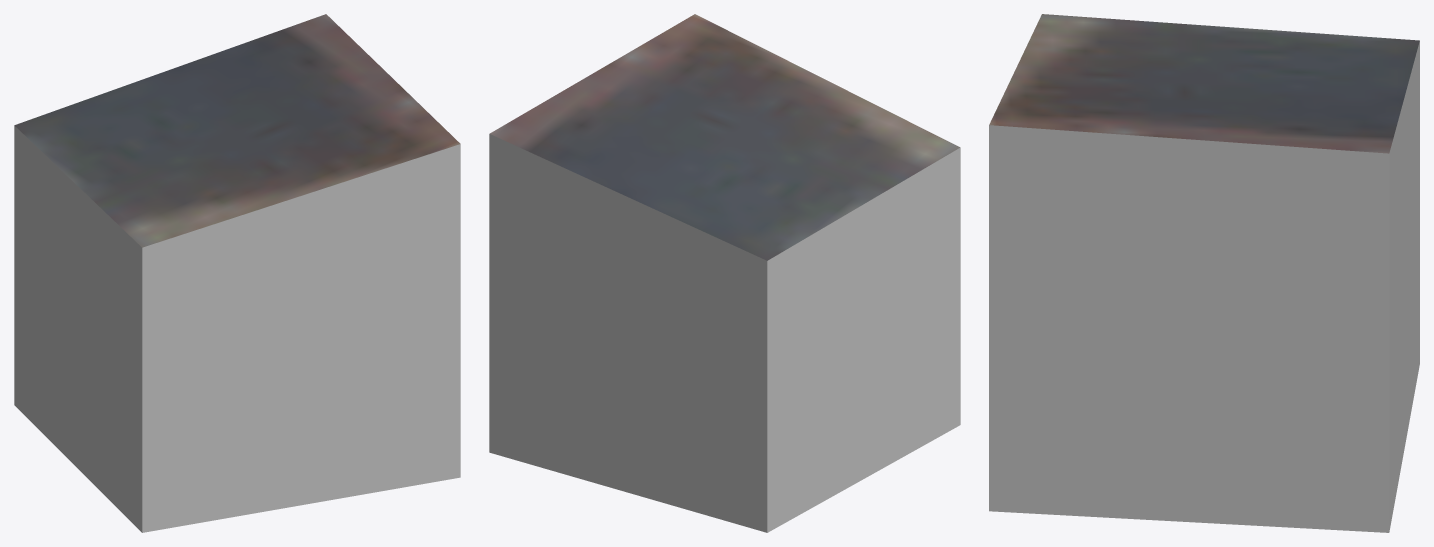
The model's file is DEBW_0010007Tx4R.gltf.
The picture shows the model from 3 angles, left to right: view 1: azimuth 30°, elevation 25°; view 2: azimuth 150°, elevation 25°; view 3: azimuth 270°, elevation 25°; orthographic projection. The views are drawn at different scales.
Parts seen in each view (by area): view 1: Z_UP; view 2: Z_UP; view 3: Z_UP.
Boxes of the visible parts, x1,y1,x2,y2 form: Z_UP: (14, 14, 460, 532); Z_UP: (489, 14, 960, 532); Z_UP: (989, 14, 1419, 532).
Bounding box in the file's own units: 5.4 × 5.15 × 5.21.
2 materials, 1 textured.
